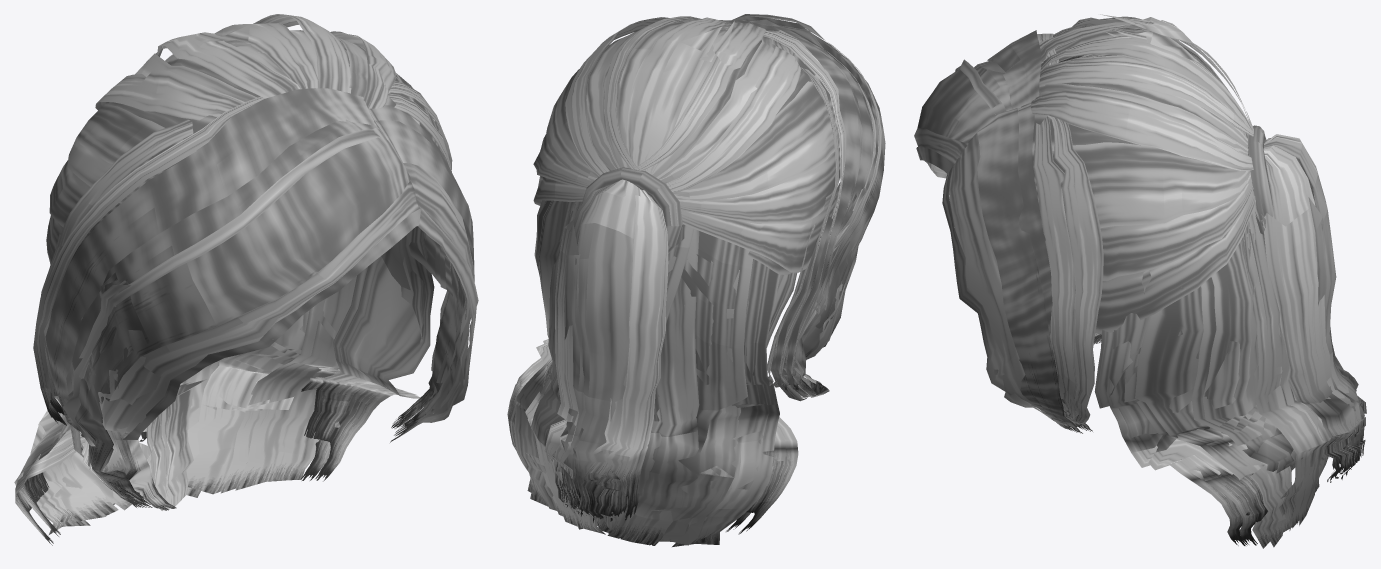
Rendered from daz_hair_low_chignon.glb.
3 views of the same model, side by side, from view 1: azimuth 30°, elevation 25°; view 2: azimuth 150°, elevation 25°; view 3: azimuth 270°, elevation 25° (orthographic). The views are drawn at different scales.
Visible parts, largest first — view 1: daz_hair_low_chignon; view 2: daz_hair_low_chignon; view 3: daz_hair_low_chignon.
Boxes of the visible parts, x1=… form: daz_hair_low_chignon: x1=14, y1=14, x2=478, y2=545; daz_hair_low_chignon: x1=507, y1=14, x2=885, y2=546; daz_hair_low_chignon: x1=914, y1=14, x2=1366, y2=548.
Bounding box in the file's own units: 0.1802 × 0.2658 × 0.2275.
Materials: 1 (1 with a texture image).
